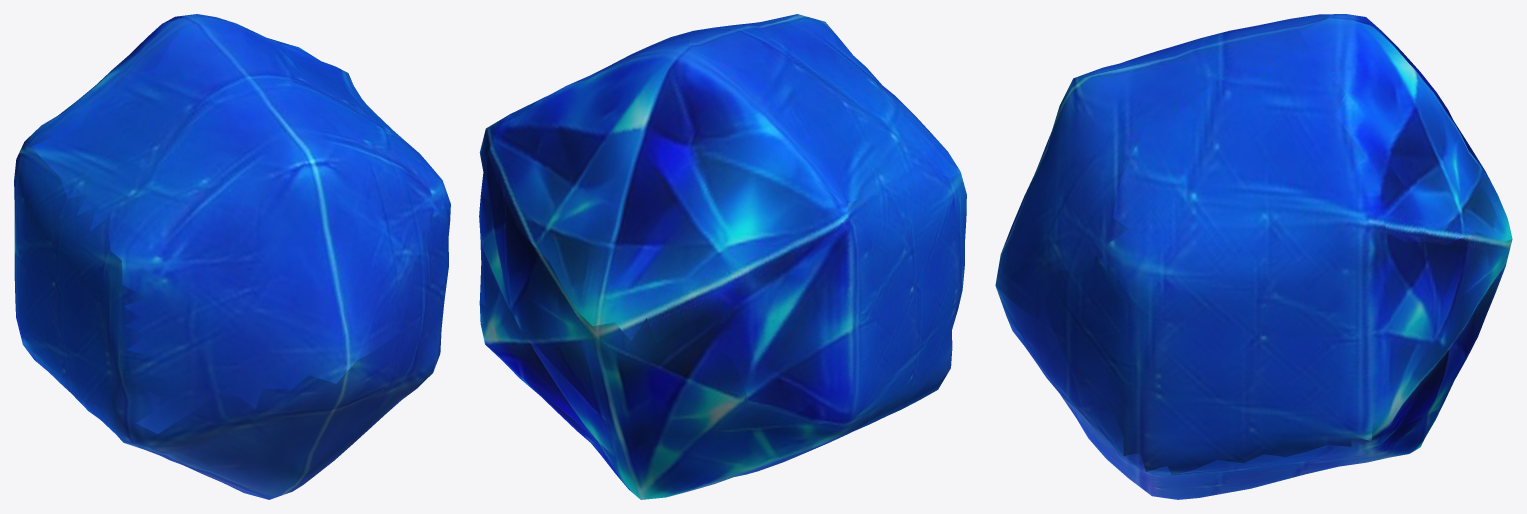
3 views of the same model, side by side, from view 1: azimuth 30°, elevation 25°; view 2: azimuth 150°, elevation 25°; view 3: azimuth 270°, elevation 25° (orthographic). The views are drawn at different scales.
Parts seen in each view (by area): view 1: world; view 2: world; view 3: world.
Part boxes in pixels (bbox=[...]): world: bbox=[14, 14, 450, 499]; world: bbox=[479, 14, 966, 499]; world: bbox=[995, 14, 1512, 499].
Size of the model in its own units: 0.7077 by 0.8138 by 0.805.
1 material, 1 textured.
